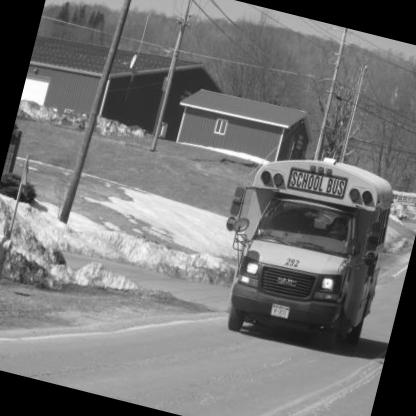bus: (190, 106, 416, 396)
